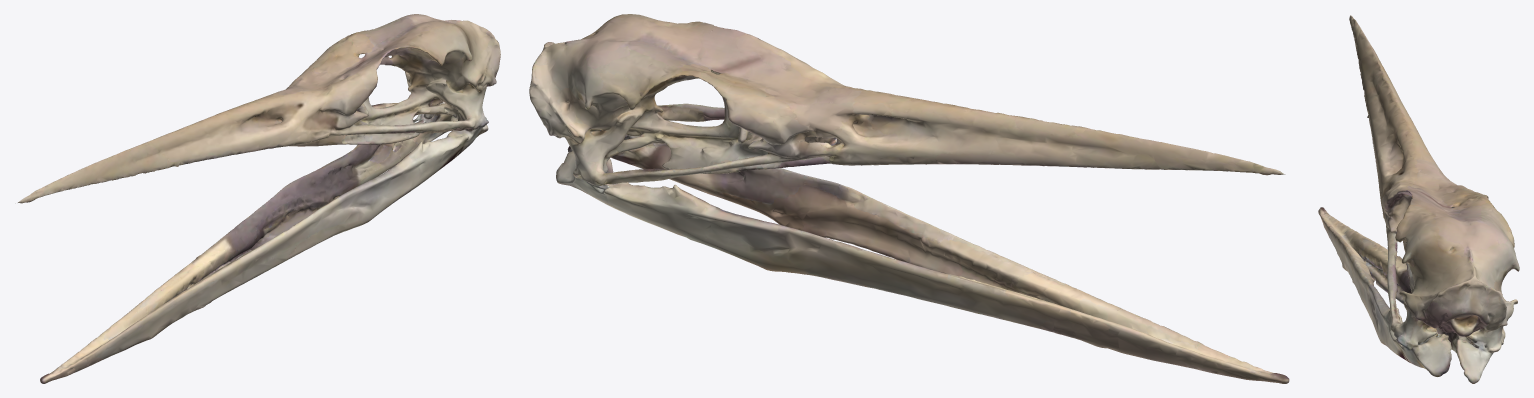
Rendered from garza.glb.
The picture shows the model from 3 angles, left to right: view 1: azimuth 30°, elevation 25°; view 2: azimuth 150°, elevation 25°; view 3: azimuth 270°, elevation 25°; orthographic projection. The views are drawn at different scales.
Visible parts, largest first — view 1: Object_2; view 2: Object_2; view 3: Object_2.
Boxes of the visible parts, x1,y1,x2,y2 form: Object_2: (18, 14, 500, 383); Object_2: (529, 14, 1289, 383); Object_2: (1318, 15, 1519, 383).
Bounding box in the file's own units: 186 × 71.5 × 55.67.
Materials: 1 (1 with a texture image).
